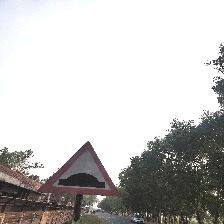Speed-breaker: (37, 141, 120, 196)
